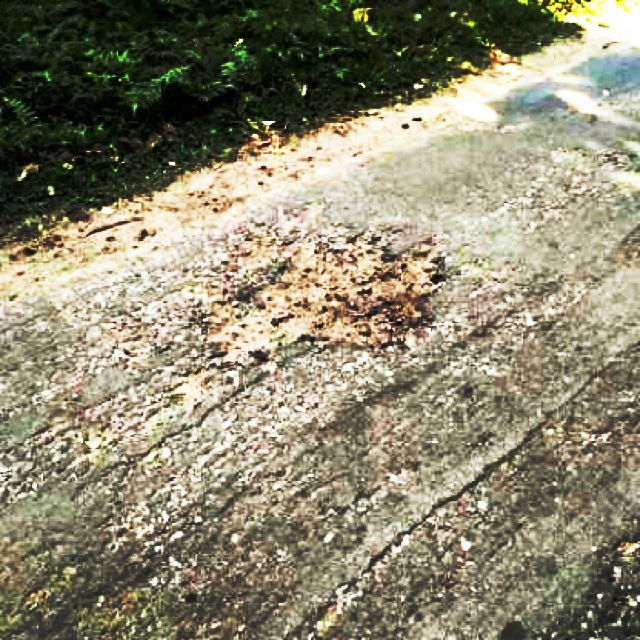pothole: (177, 229, 452, 377), (577, 532, 640, 640)
